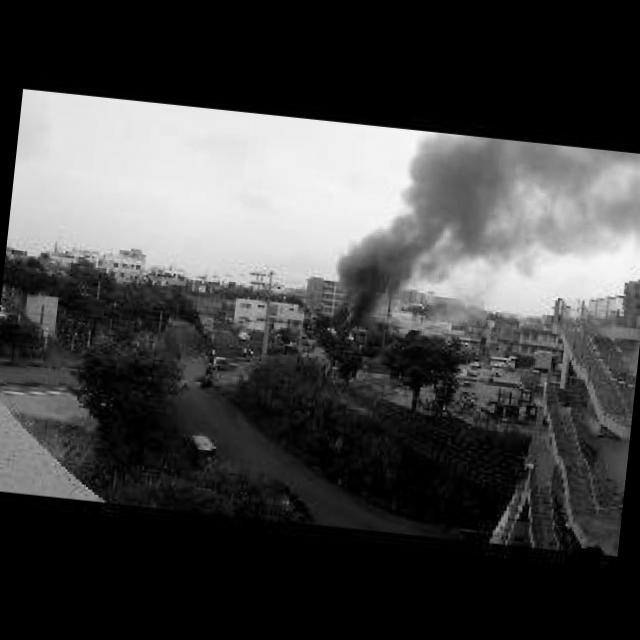fire: (326, 326, 338, 336), (346, 332, 354, 339)
smoke: (397, 127, 640, 275), (321, 215, 468, 328)
